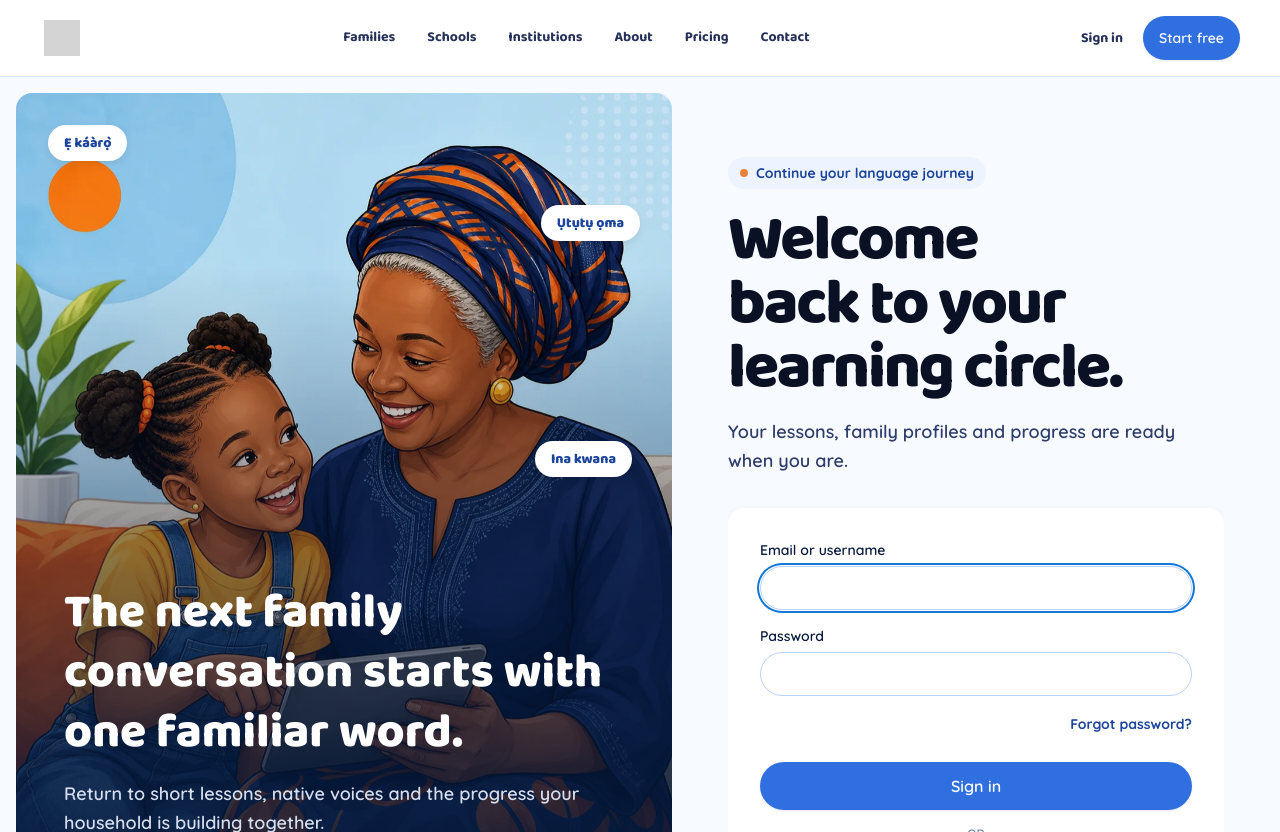
LoginPage › surfaces an invalid-credentials error
The width and height of the screenshot is (1280, 832).
Type "ada@demo.test" into the field labelled "Email or username" at [976, 588], box [760,566,1192,610]
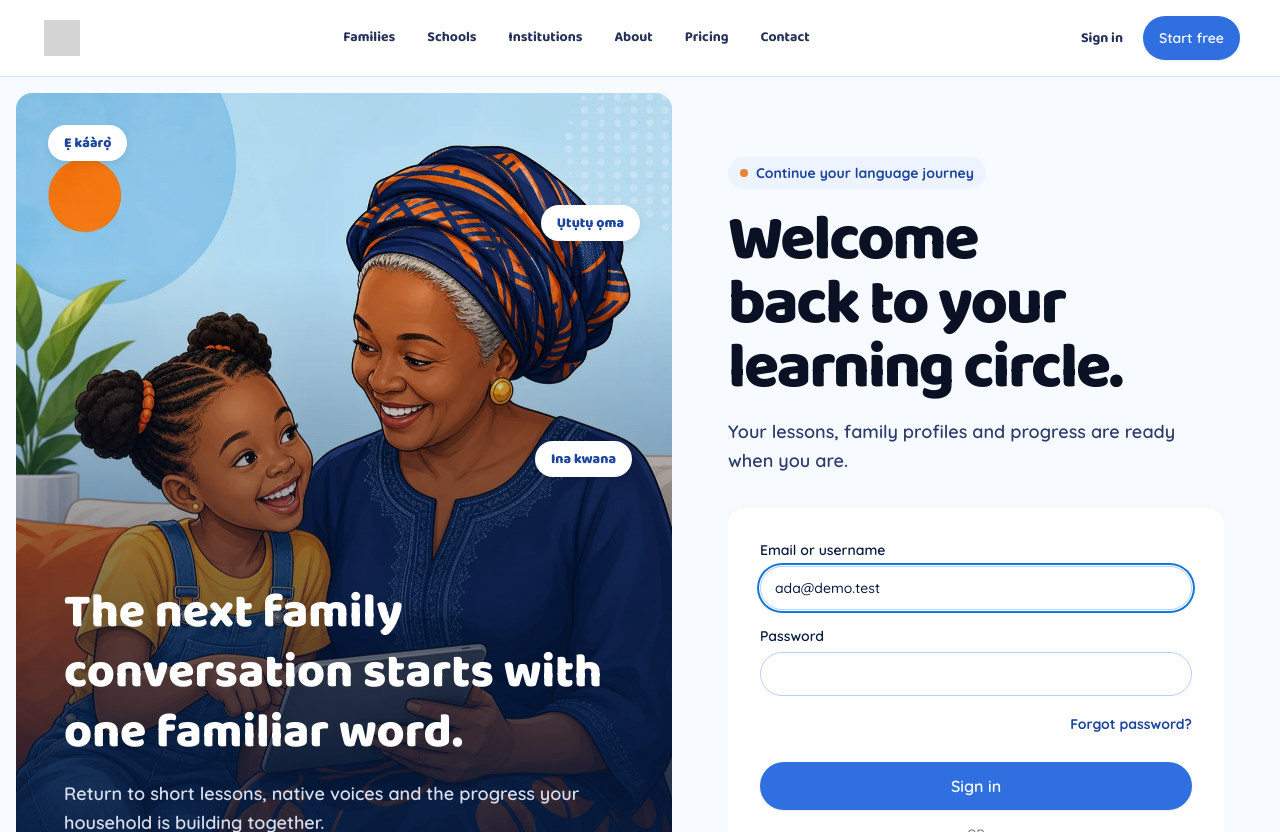
Type "wrong" into the password field labelled "Password" at [976, 674], box [760,652,1192,696]
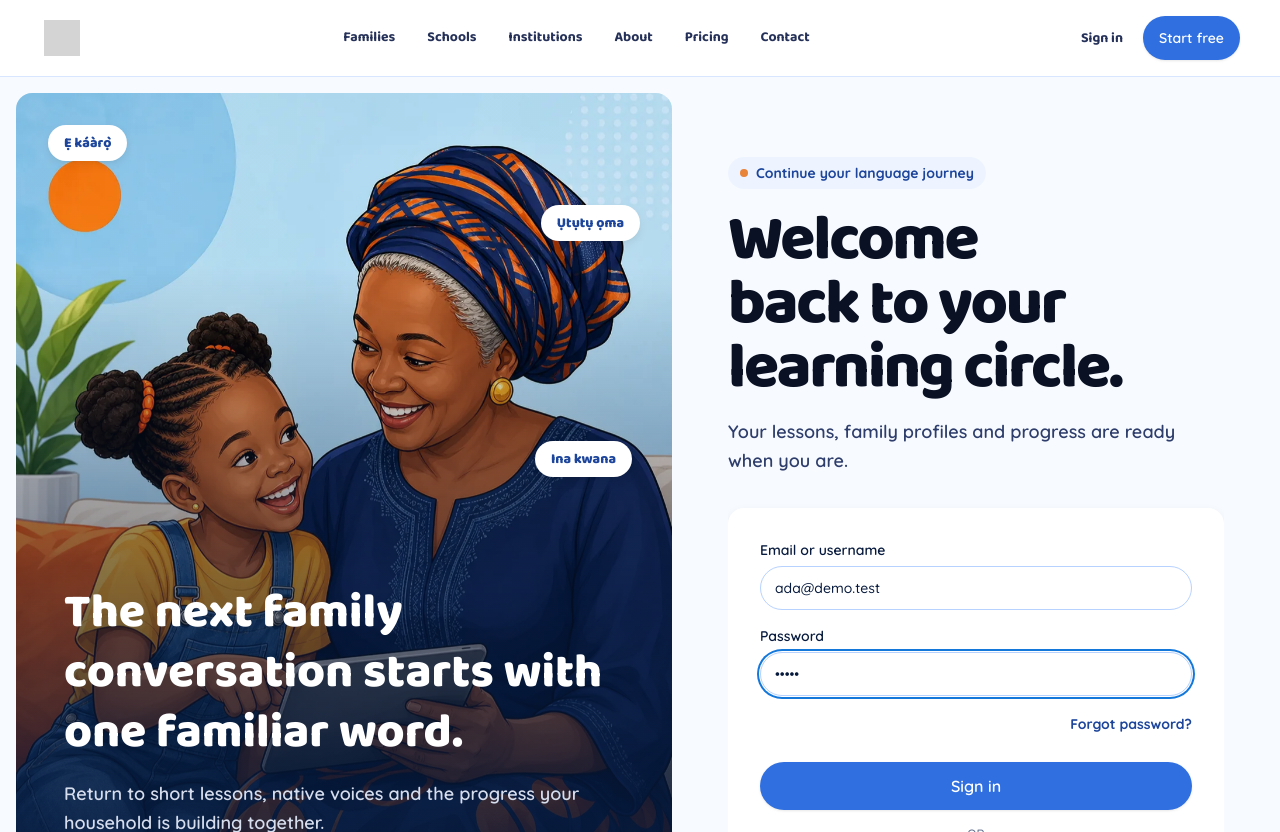
Click the button "Sign in" at [976, 786], box [760,762,1192,810]
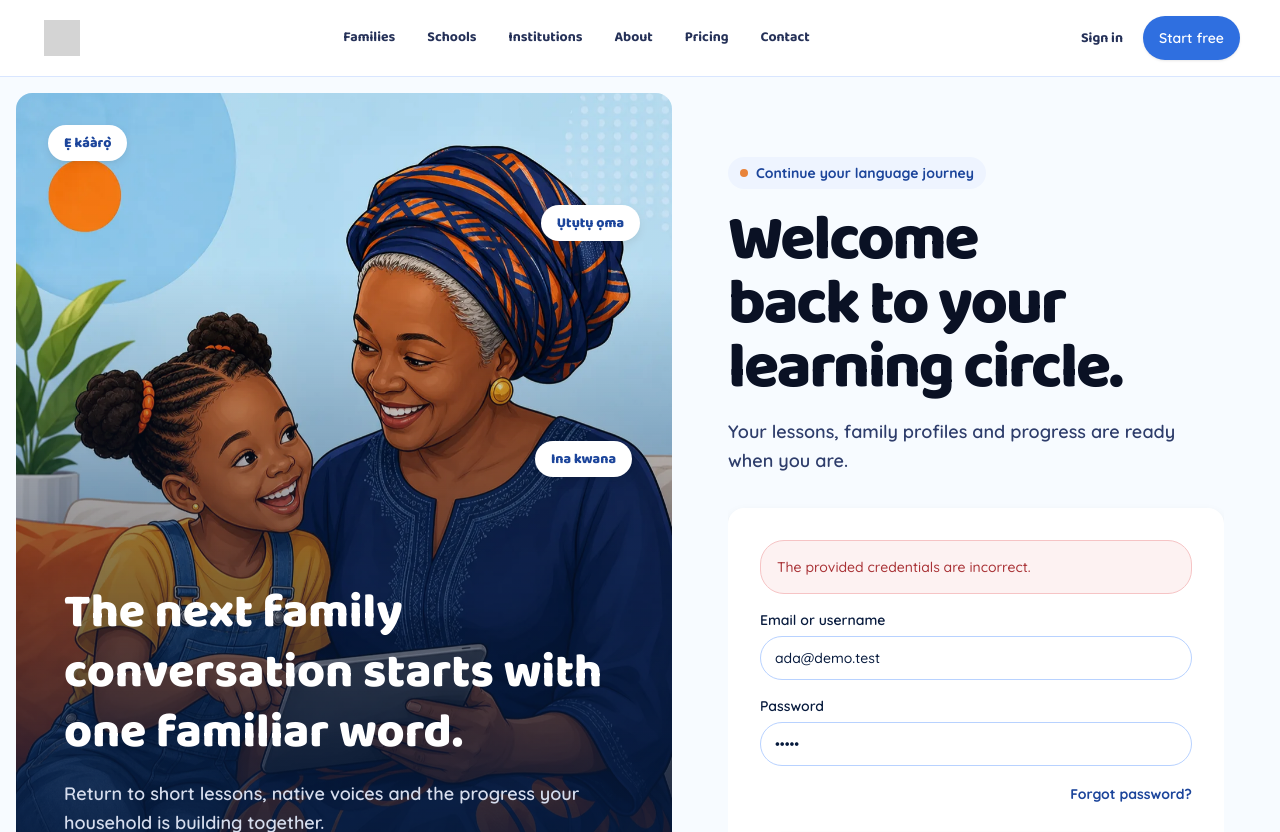
Expected: the text "The provided credentials are incorrect." is shown, [777,556,1031,576]
